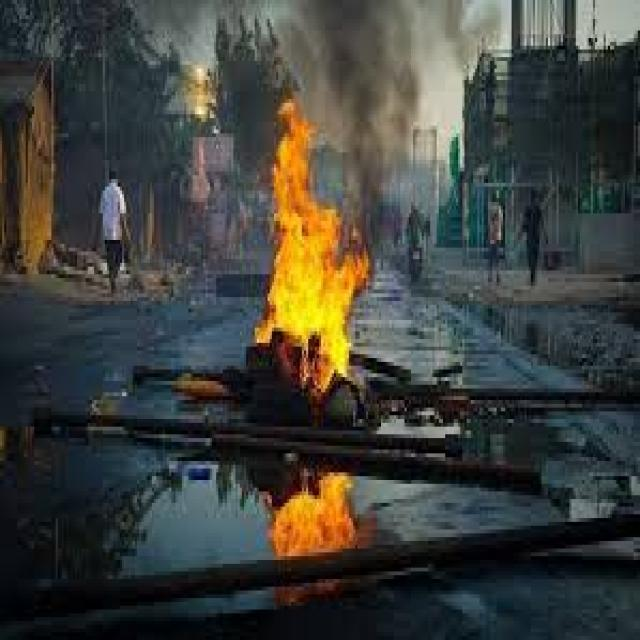Fire: (256, 102, 370, 391), (272, 471, 358, 559)
Smoke: (284, 0, 500, 100), (370, 100, 418, 191)
